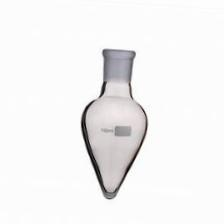Pear shaped flask: (73, 47, 143, 198)
